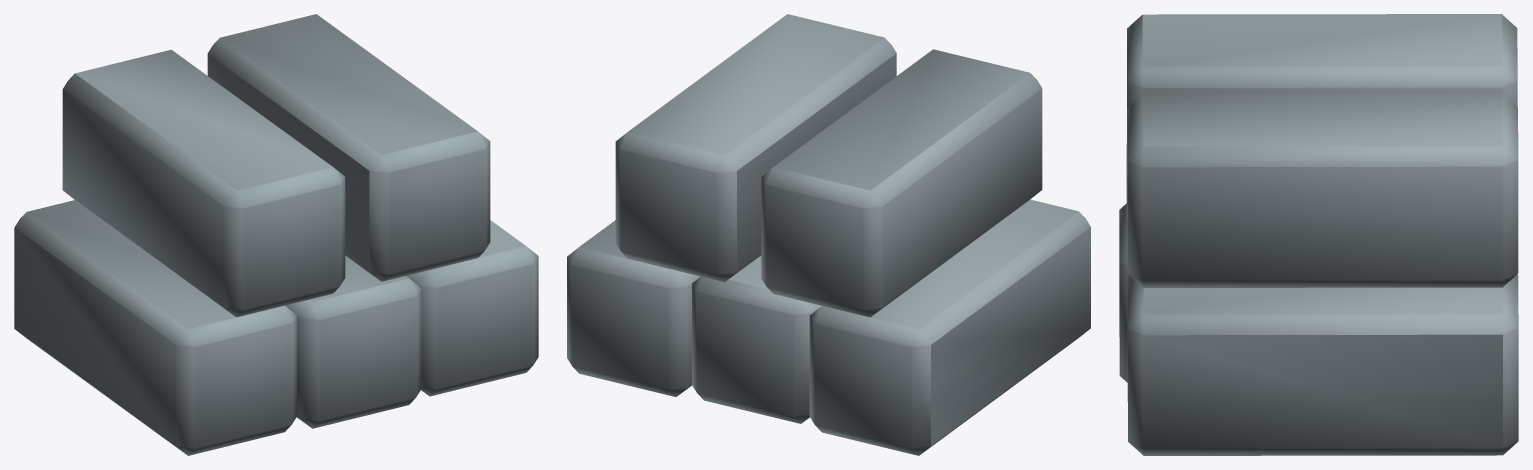
Rendered from resource_stone.glb.
The picture shows the model from 3 angles, left to right: view 1: azimuth 30°, elevation 25°; view 2: azimuth 150°, elevation 25°; view 3: azimuth 270°, elevation 25°; orthographic projection. The views are drawn at different scales.
Visible parts, largest first — view 1: resource_stone; view 2: resource_stone; view 3: resource_stone.
Part boxes in pixels (bbox=[...]): resource_stone: bbox=[14, 14, 538, 455]; resource_stone: bbox=[567, 14, 1090, 455]; resource_stone: bbox=[1119, 14, 1518, 455].
Bounding box in the file's own units: 0.4211 × 0.28 × 0.3579.
1 material, 1 textured.
